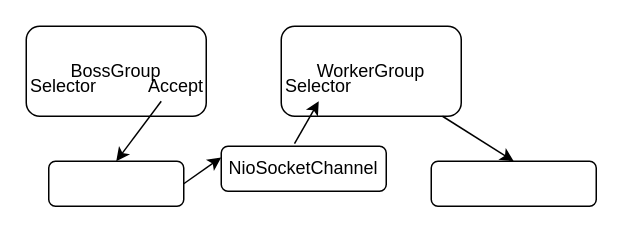
Image size: 623x233. Some labels were removed from this diagram. Each missing label, with the box of its shape:
Handler: (430, 160, 596, 206)
SocketChannel: (47, 160, 184, 206)
